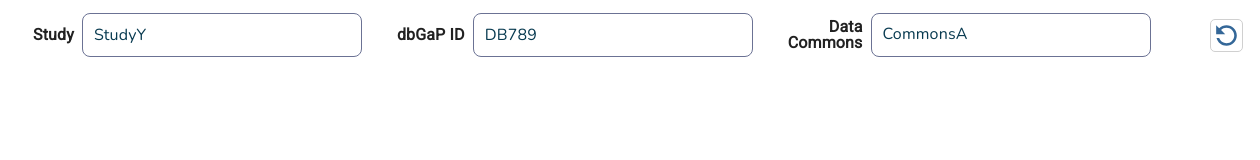
Test: ListFilters › resets all filters and clears URL searchParams when reset button is clicked
The image size is (1260, 160).
Expected: the field with test id "name-input" holds "StudyY", x1=82 y1=13 x2=362 y2=57
Expected: the field with test id "dbGaPID-input" holds "DB789", x1=473 y1=13 x2=753 y2=57
Click the button with test id "reset-filters-button" at (1226, 35), box x1=1210 y1=18 x2=1243 y2=52
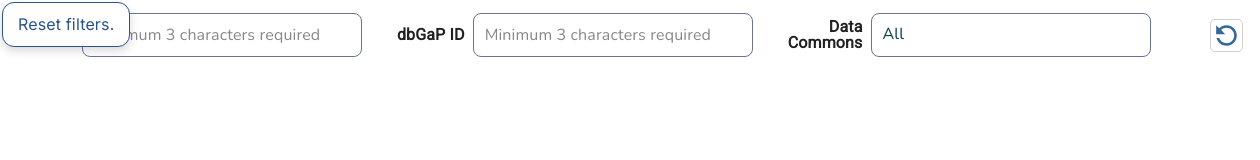
Expected: the label with test id "data-commons-display-names-select-input" holds "All", x1=788 y1=19 x2=862 y2=51
Result: the field with test id "name-input" is empty at x1=82 y1=13 x2=362 y2=57
Result: the field with test id "dbGaPID-input" is empty at x1=473 y1=13 x2=753 y2=57
